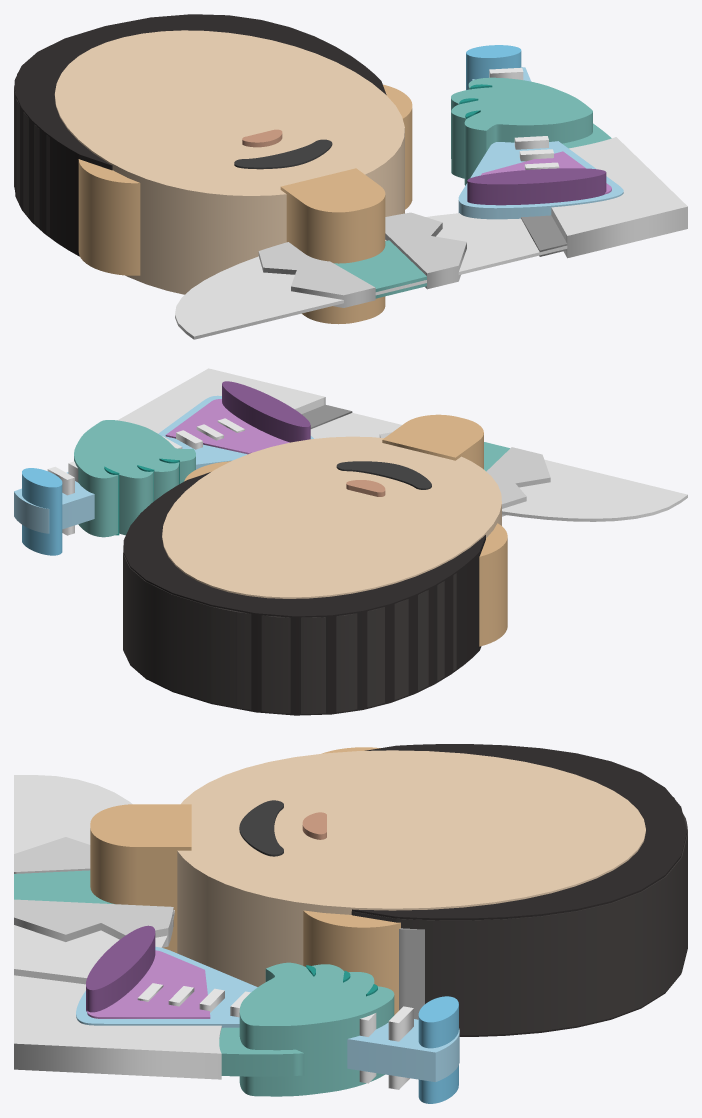
Rendered from emoji_u1f468_1f3fb_200d_1f52c.glb.
3 renders of one model, top to bottom at view 1: azimuth 30°, elevation 25°; view 2: azimuth 150°, elevation 25°; view 3: azimuth 270°, elevation 25°, orthographic. The views are drawn at different scales.
Visible parts, largest first — view 1: emoji_u1f468_1f3fb_200d_1f52c; view 2: emoji_u1f468_1f3fb_200d_1f52c; view 3: emoji_u1f468_1f3fb_200d_1f52c.
Boxes of the visible parts, left/top/right/bottom form: emoji_u1f468_1f3fb_200d_1f52c: left=14, top=14, right=687, bottom=339; emoji_u1f468_1f3fb_200d_1f52c: left=14, top=368, right=687, bottom=715; emoji_u1f468_1f3fb_200d_1f52c: left=14, top=744, right=687, bottom=1103.
Size of the model in its own units: 0.0336 by 0.0072 by 0.0329.
